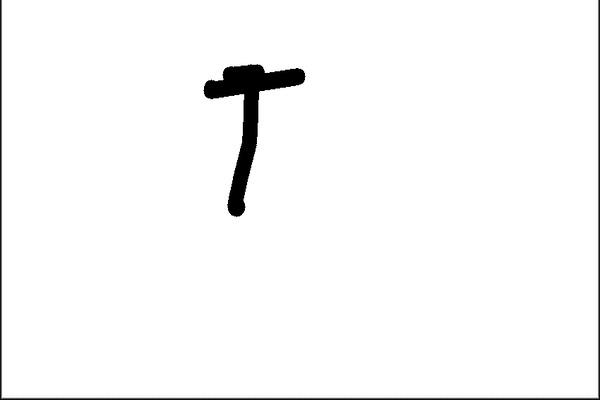T: (197, 56, 311, 222)
